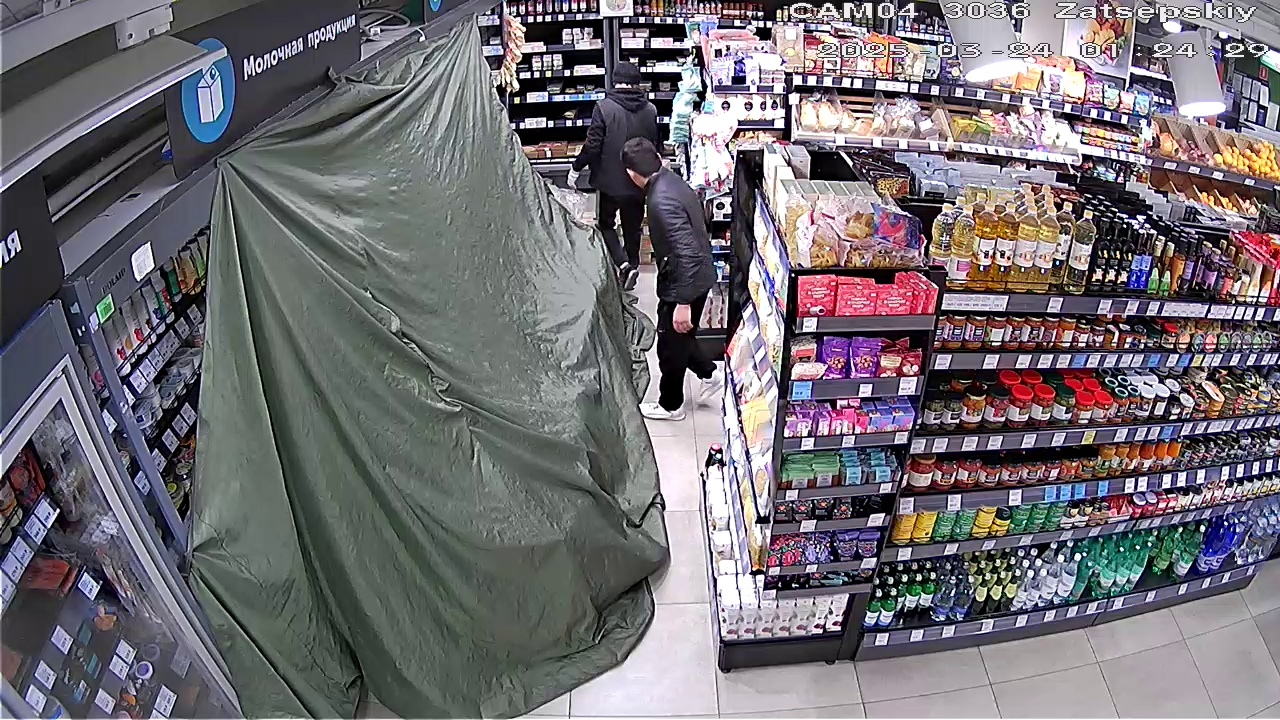Human: (618, 141, 719, 409), (576, 52, 647, 244)
dome: (207, 42, 658, 705)
